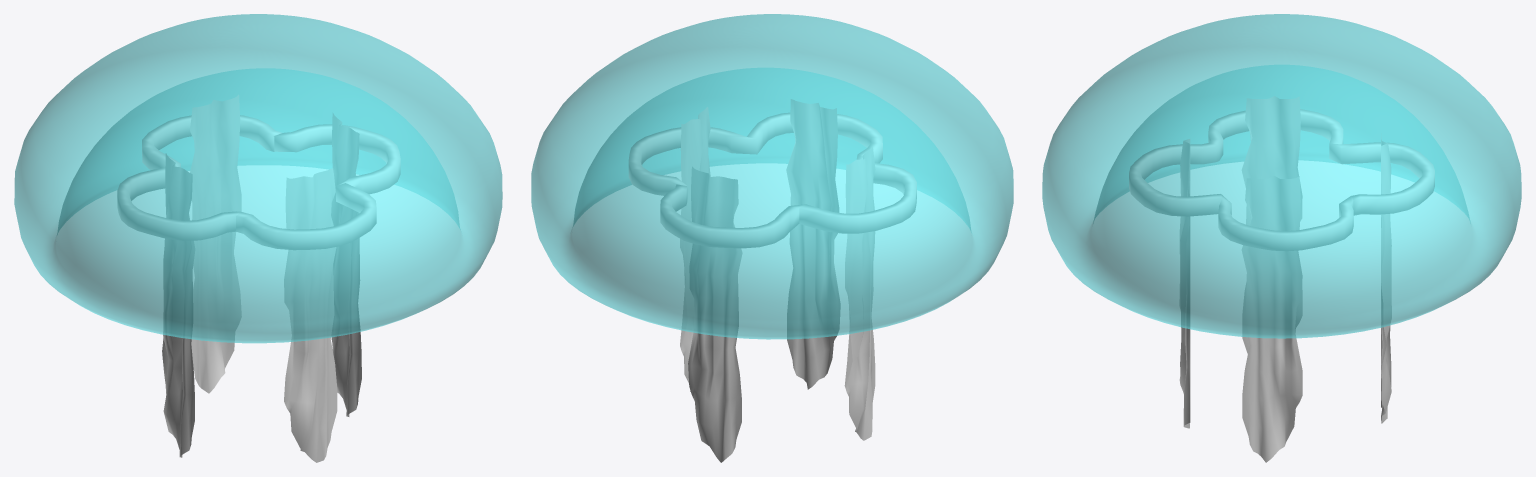
File: jellyfish1.fbx
3 views of the same model, side by side, from view 1: azimuth 30°, elevation 25°; view 2: azimuth 150°, elevation 25°; view 3: azimuth 270°, elevation 25° (orthographic).
Visible parts, largest first — view 1: 球体.004, 圆环.009, 平面.006, 平面.007, 平面.005, 平面.003; view 2: 球体.004, 圆环.009, 平面.007, 平面.006, 平面.005, 平面.003; view 3: 球体.004, 平面.003, 圆环.009, 平面.005, 平面.007, 平面.006.
Part boxes in pixels (box(x1,y1,x2,y2)): 球体.004: box(14, 14, 502, 343); 圆环.009: box(117, 115, 400, 249); 平面.006: box(284, 168, 337, 462); 平面.007: box(190, 95, 241, 393); 平面.005: box(162, 154, 194, 457); 平面.003: box(331, 113, 361, 416); 球体.004: box(531, 14, 1013, 339); 圆环.009: box(629, 113, 916, 247); 平面.007: box(688, 167, 742, 462); 平面.006: box(786, 99, 840, 389); 平面.005: box(844, 147, 875, 440); 平面.003: box(680, 107, 710, 391); 球体.004: box(1042, 14, 1521, 338); 平面.003: box(1242, 176, 1302, 462); 圆环.009: box(1129, 109, 1434, 250); 平面.005: box(1242, 96, 1302, 353); 平面.007: box(1381, 137, 1391, 423); 平面.006: box(1179, 139, 1190, 428).
Size of the model in its own units: 170 by 151 by 170.
